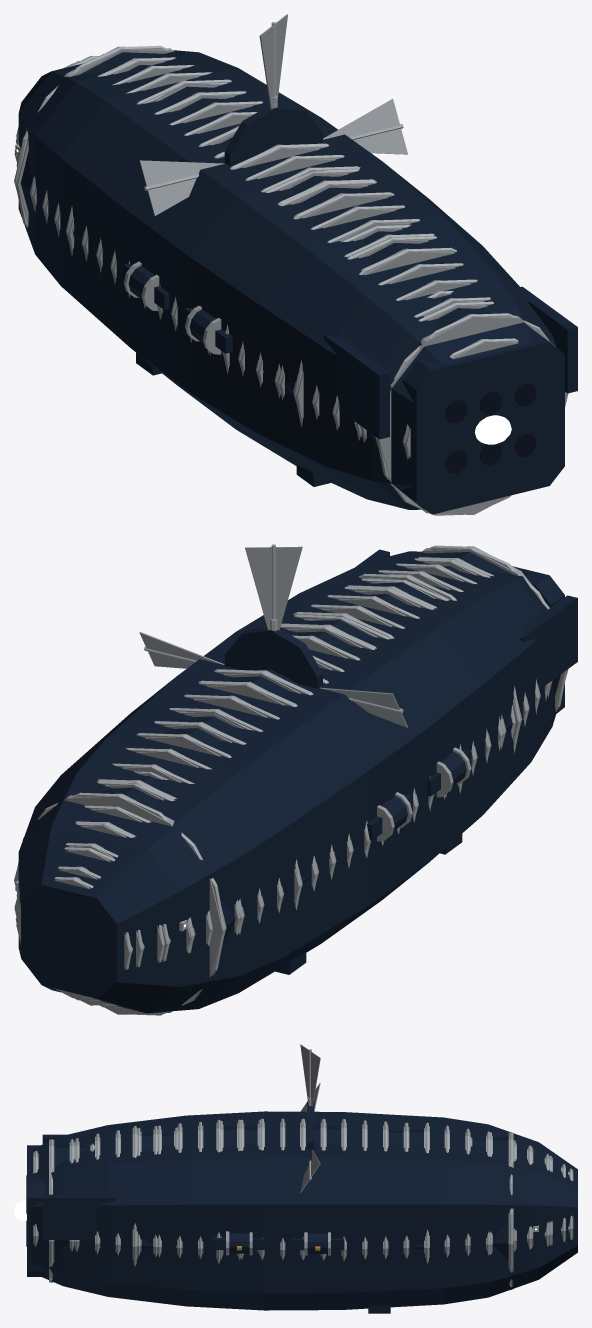
3 renders of one model, top to bottom at view 1: azimuth 30°, elevation 25°; view 2: azimuth 150°, elevation 25°; view 3: azimuth 270°, elevation 25°, orthographic. The views are drawn at different scales.
Parts seen in each view (by area): view 1: RIMWARD_HULL, RIMWARD_ENGINE_GLOW; view 2: RIMWARD_HULL; view 3: RIMWARD_HULL.
Part boxes in pixels (x1,y1,x2,y2): RIMWARD_HULL: [14, 14, 577, 515]; RIMWARD_ENGINE_GLOW: [475, 415, 511, 444]; RIMWARD_HULL: [14, 544, 577, 1015]; RIMWARD_HULL: [26, 1044, 577, 1313].
Size of the model in its own units: 6.23 by 8.22 by 17.14.
